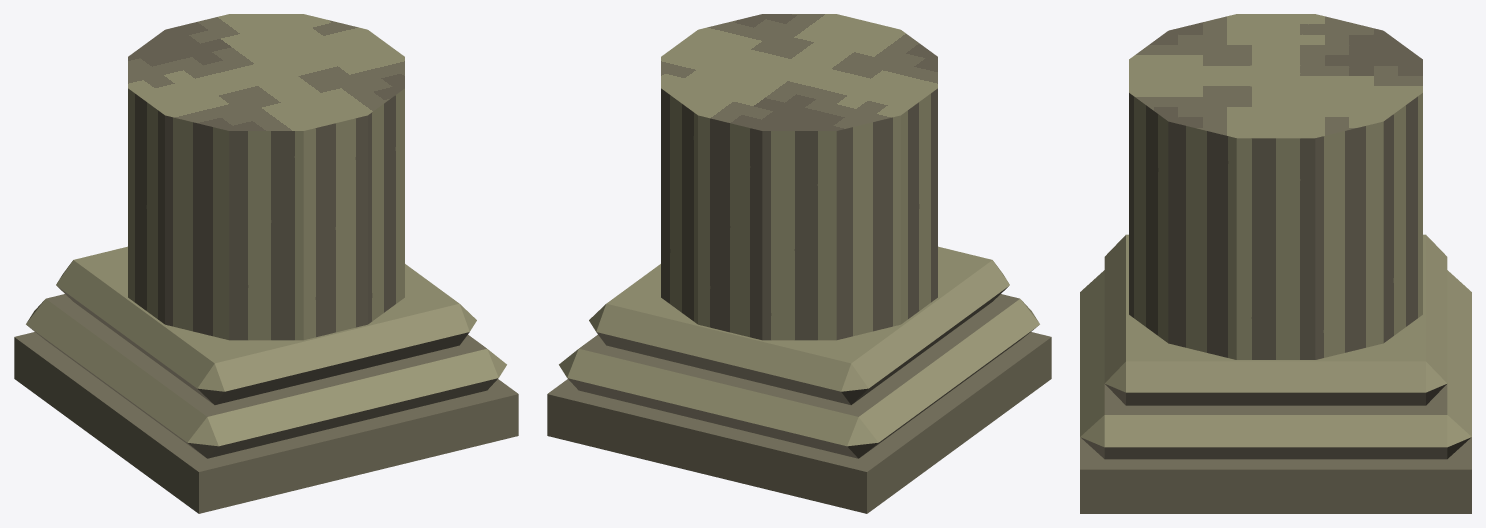
File: Pillar Base.obj
The picture shows the model from 3 angles, left to right: view 1: azimuth 30°, elevation 25°; view 2: azimuth 150°, elevation 25°; view 3: azimuth 270°, elevation 25°; orthographic projection. The views are drawn at different scales.
Parts seen in each view (by area): view 1: cylinder, beveled_cuboid, cube; view 2: cylinder, beveled_cuboid, cube; view 3: cylinder, beveled_cuboid, cube.
Boxes of the visible parts, <box> form: cylinder: <box>128,14,404,340</box>; beveled_cuboid: <box>26,246,506,458</box>; cube: <box>14,332,518,513</box>; cylinder: <box>661,14,937,340</box>; beveled_cuboid: <box>559,246,1039,458</box>; cube: <box>547,332,1051,513</box>; cylinder: <box>1129,14,1422,359</box>; beveled_cuboid: <box>1080,234,1471,459</box>; cube: <box>1080,437,1471,513</box>.
Bounding box in the file's own units: 1 × 1 × 1.
Materials: 1 (1 with a texture image).
